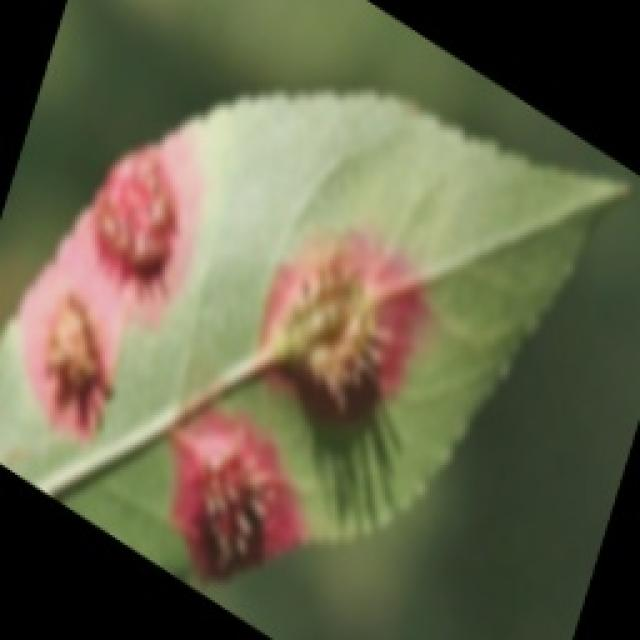Gymnosporangium_Rusts: (5, 82, 633, 582)
